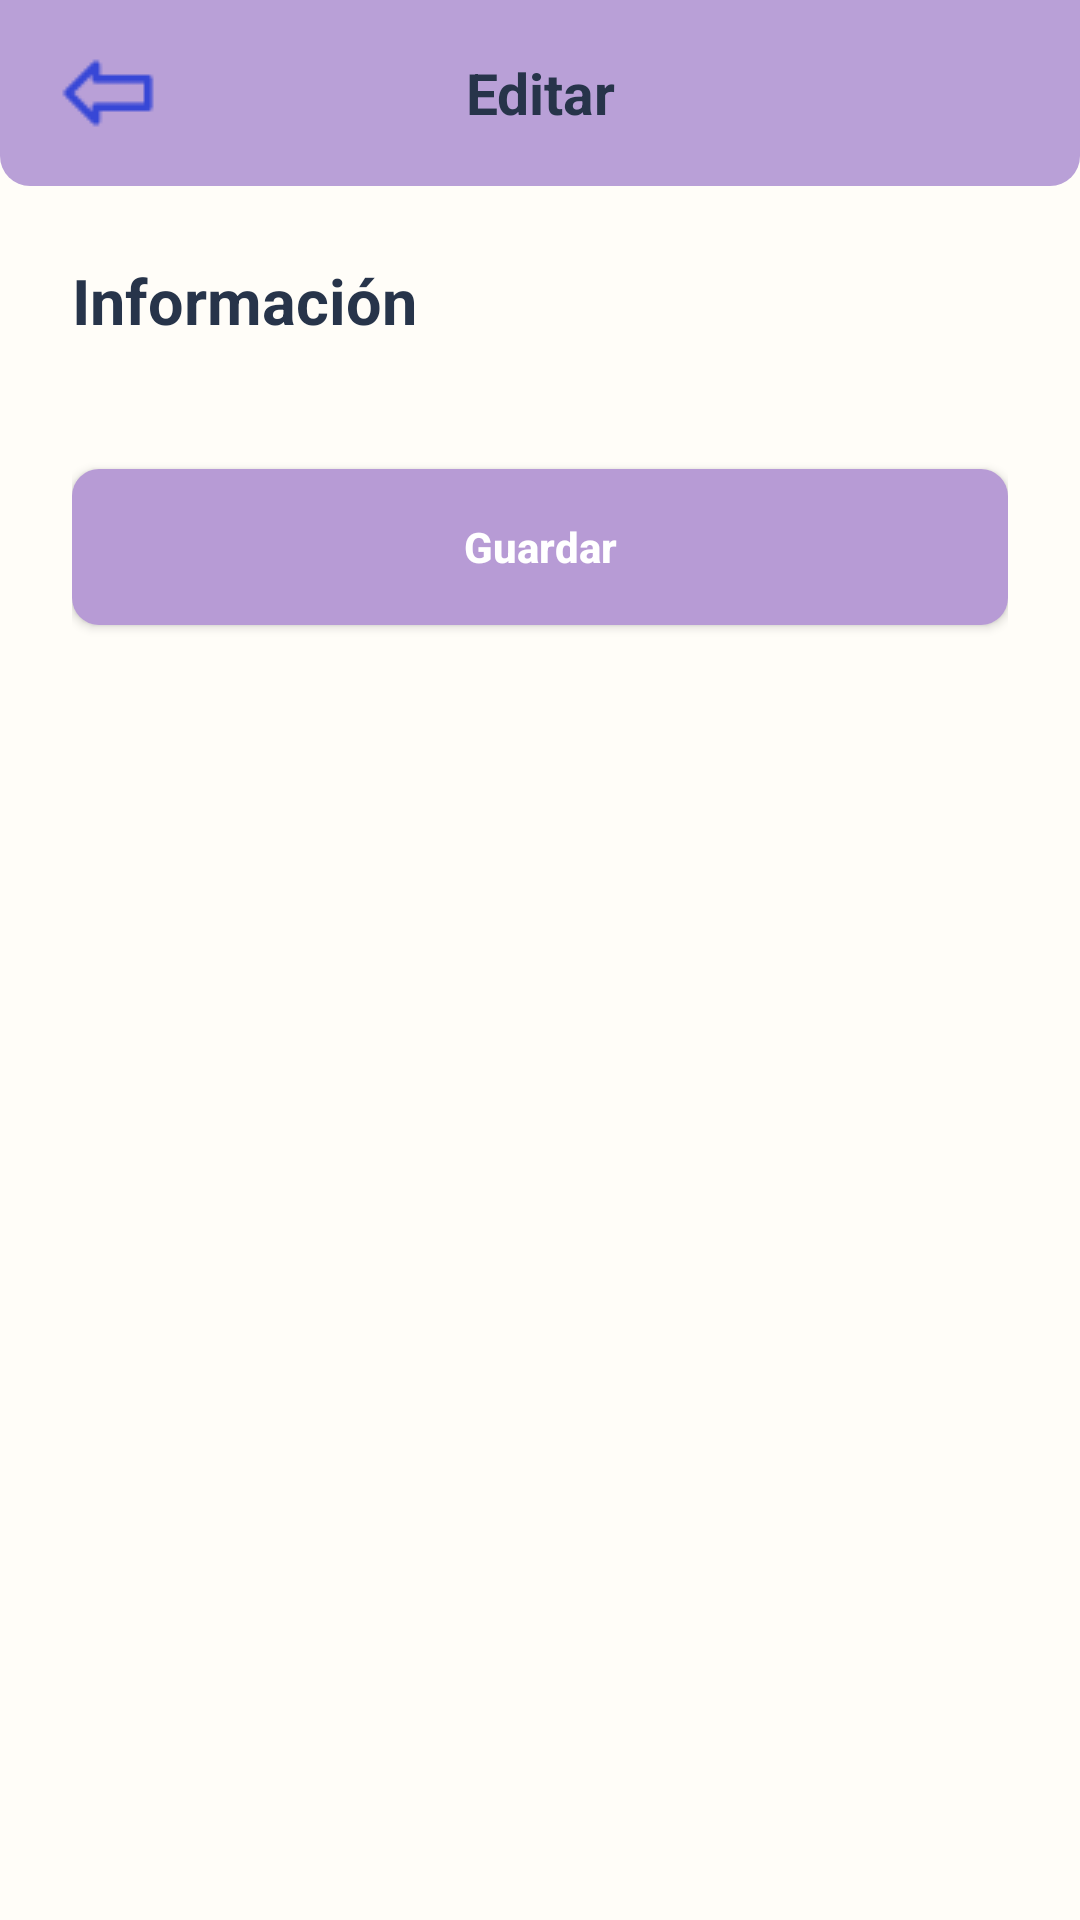

Screen size 1080px x 1920px. Icon name, then its box in pixels as [left=x1, top=y1, right=x2, bottom=y2]:
Volver: [left=63, top=60, right=154, bottom=126]
